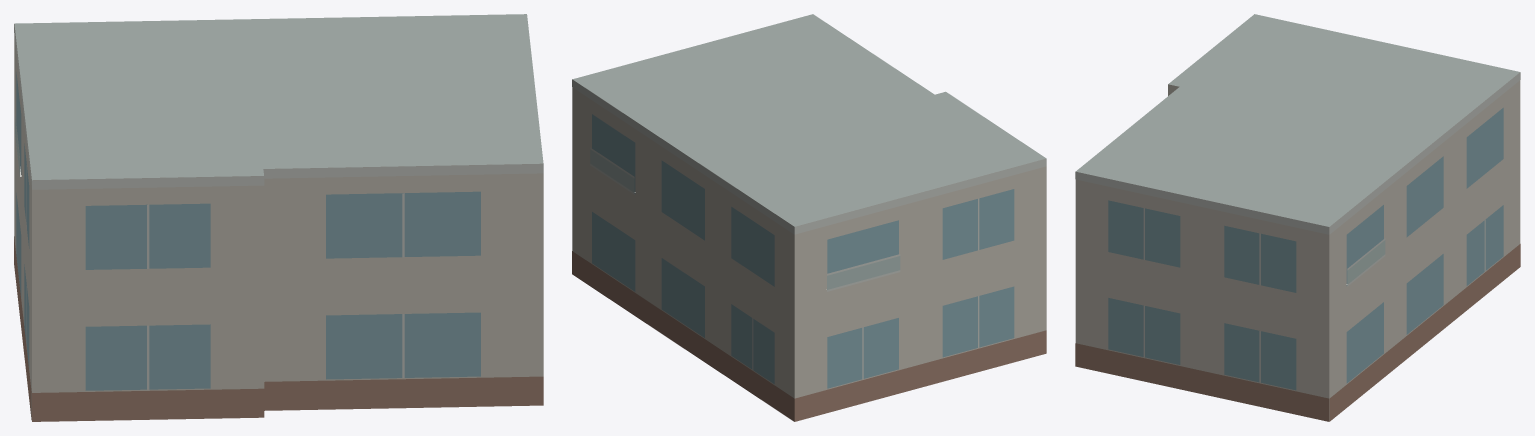
The model's file is survey-upis-33002601.glb.
3 views of the same model, side by side, from view 1: azimuth 30°, elevation 25°; view 2: azimuth 150°, elevation 25°; view 3: azimuth 270°, elevation 25° (orthographic). The views are drawn at different scales.
Visible parts, largest first — view 1: survey-upis-33002601.tmp; view 2: survey-upis-33002601.tmp; view 3: survey-upis-33002601.tmp.
Part boxes in pixels (x1=…): survey-upis-33002601.tmp: x1=14, y1=14, x2=543, y2=421; survey-upis-33002601.tmp: x1=572, y1=14, x2=1046, y2=421; survey-upis-33002601.tmp: x1=1075, y1=14, x2=1520, y2=421.
Bounding box in the file's own units: 14.31 × 6.1 × 12.64.
